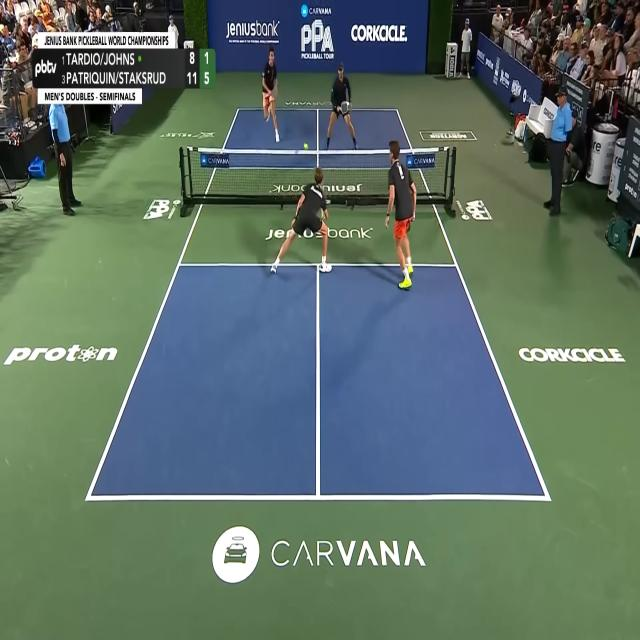ball: (304, 142, 309, 151)
